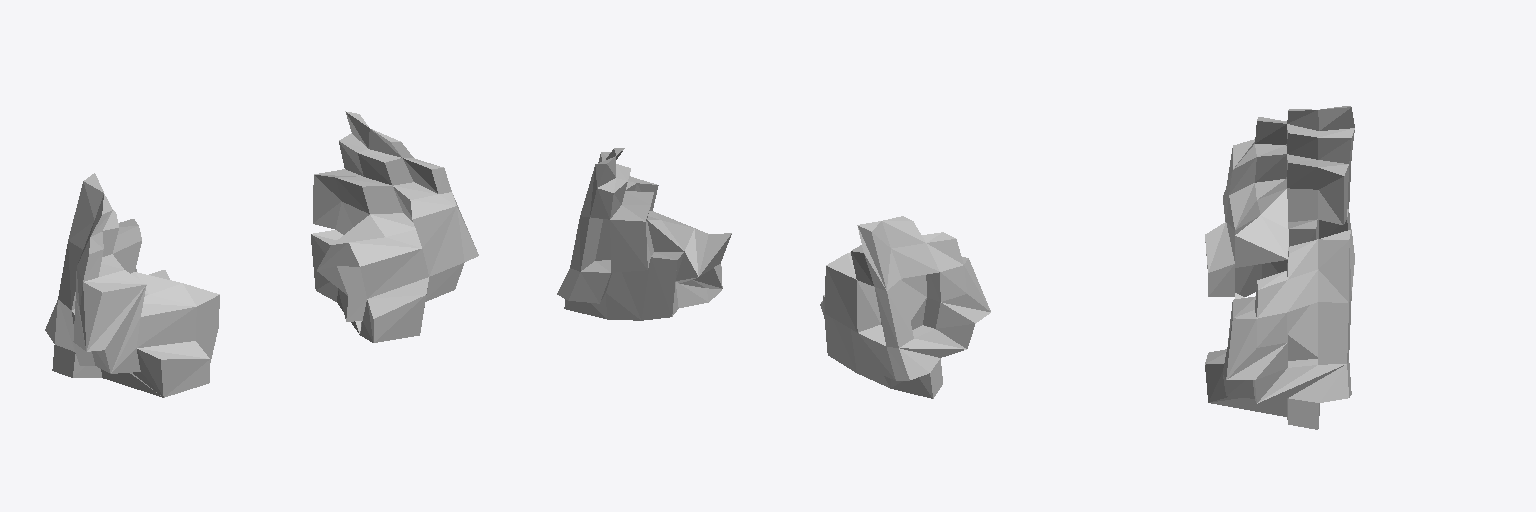
The model's file is Immediately_Protection_Item.obj.
3 renders of one model, left to right at view 1: azimuth 30°, elevation 25°; view 2: azimuth 150°, elevation 25°; view 3: azimuth 270°, elevation 25°, orthographic.
Parts seen in each view (by area): view 1: Immediately_Protection_Item; view 2: Immediately_Protection_Item; view 3: Immediately_Protection_Item.
Part boxes in pixels (left/top/right/bottom): Immediately_Protection_Item: left=45, top=111, right=478, bottom=397; Immediately_Protection_Item: left=557, top=148, right=990, bottom=398; Immediately_Protection_Item: left=1205, top=106, right=1354, bottom=429.
Size of the model in its own units: 1.68 by 0.7195 by 0.5579.